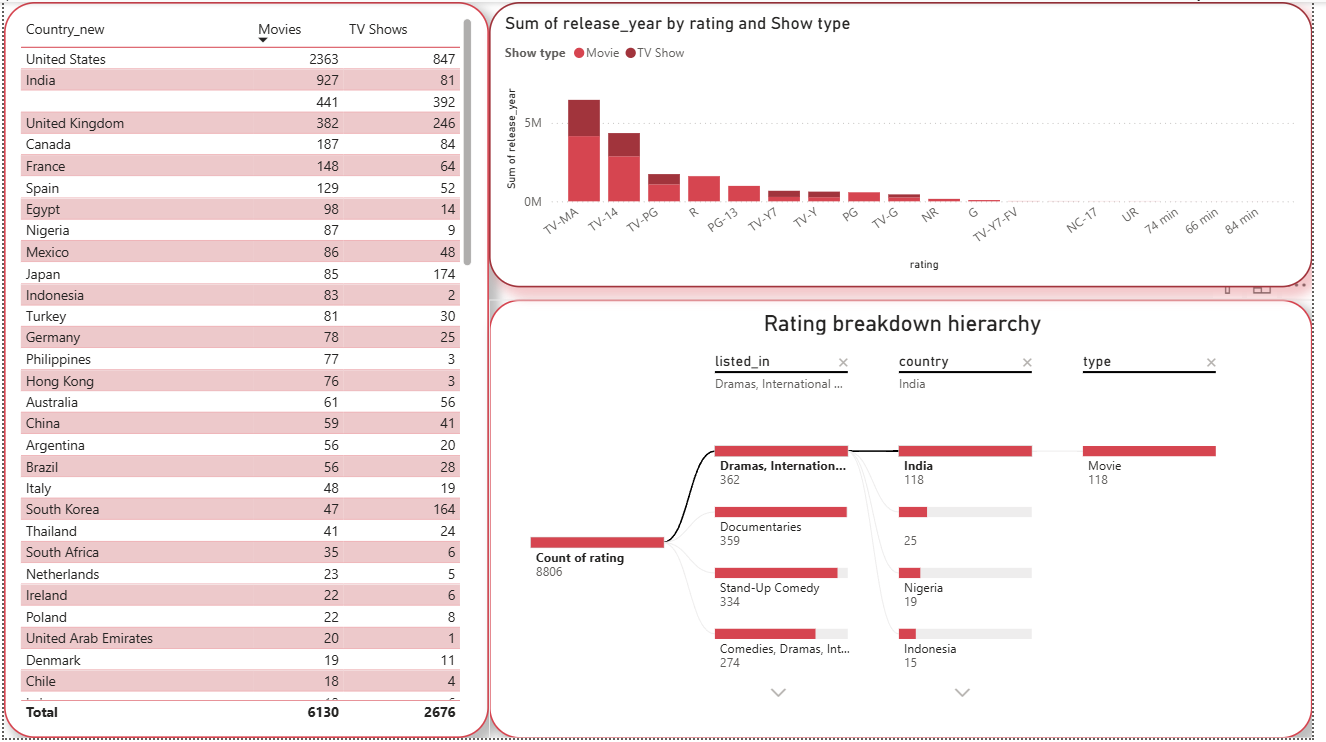

This screenshot's page, from the dashboard's own definition file:
{"tool":"powerbi","page":{"name":"Page 2","canvas":[1280,720],"ordinal":1},"visuals":[{"type":"tableEx","fields":{"Values":["netflix_titles.Country_new","Measure_Table.Movies","Measure_Table.TV Shows"]},"box":[0,0,474.3,720],"z":0},{"type":"decompositionTreeVisual","title":"Rating breakdown hierarchy","fields":{"Analyze":["CountNonNull(netflix_titles.rating)"],"ExplainBy":["netflix_titles.listed_in","netflix_titles.country","netflix_titles.type"]},"box":[474.5,291,805.8,429.2],"z":1000},{"type":"columnChart","fields":{"Category":["netflix_titles.rating"],"Series":["netflix_titles.Show type"],"Y":["Sum(netflix_titles.release_year)"]},"box":[474.5,0,805.8,278.8],"z":2000}]}

Visuals, with their boxes in screenshot pixels (x1, y1, x2, y2), scaled from the page's 1280x720 canvas onto the 1326x742 screenshot:
tableEx - netflix_titles.Country_new x Measure_Table.Movies: x1=0 y1=0 x2=491 y2=741
"Rating breakdown hierarchy" decompositionTreeVisual: x1=492 y1=300 x2=1325 y2=741
columnChart - netflix_titles.rating x netflix_titles.Show type: x1=492 y1=0 x2=1325 y2=287
